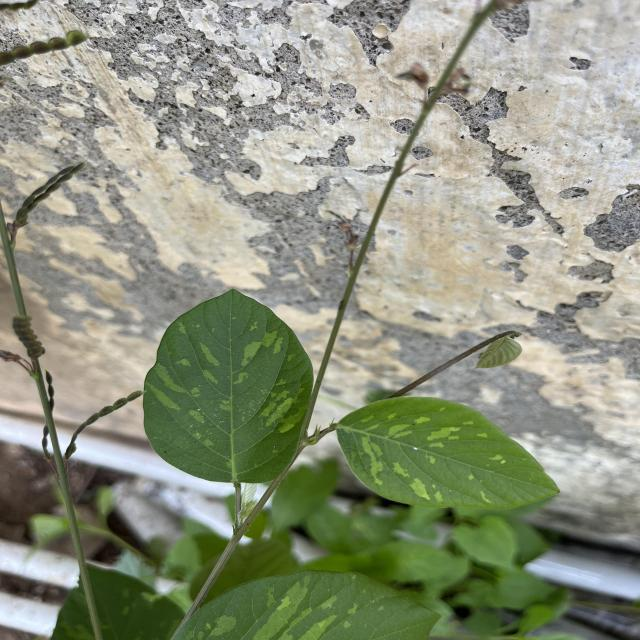Desmodium gangeticum: (136, 286, 318, 486), (336, 393, 564, 511)
